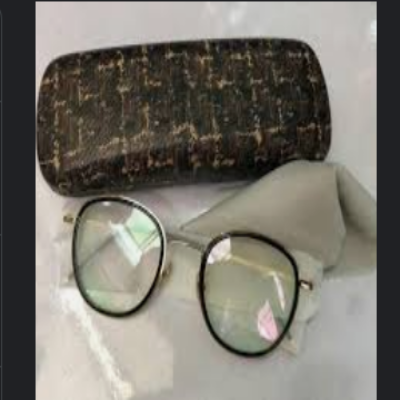glasses: (61, 193, 314, 364)
